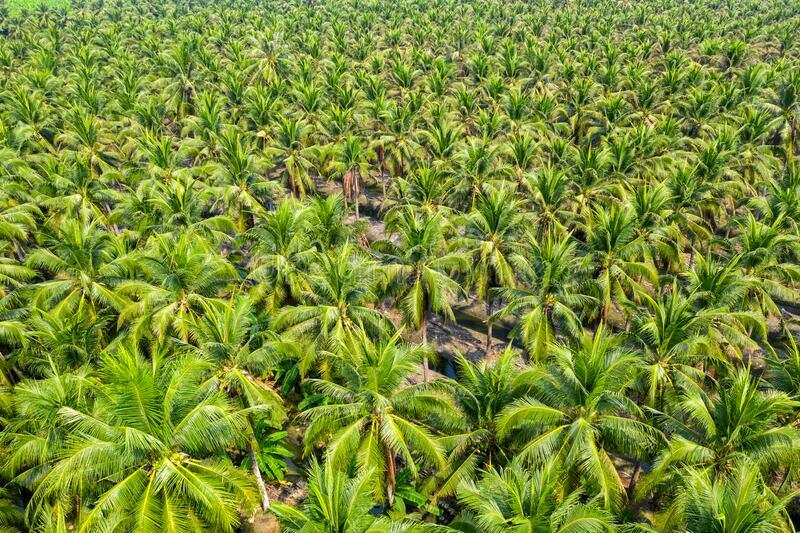coconut_tree: (69, 350, 270, 532), (302, 331, 473, 478)
